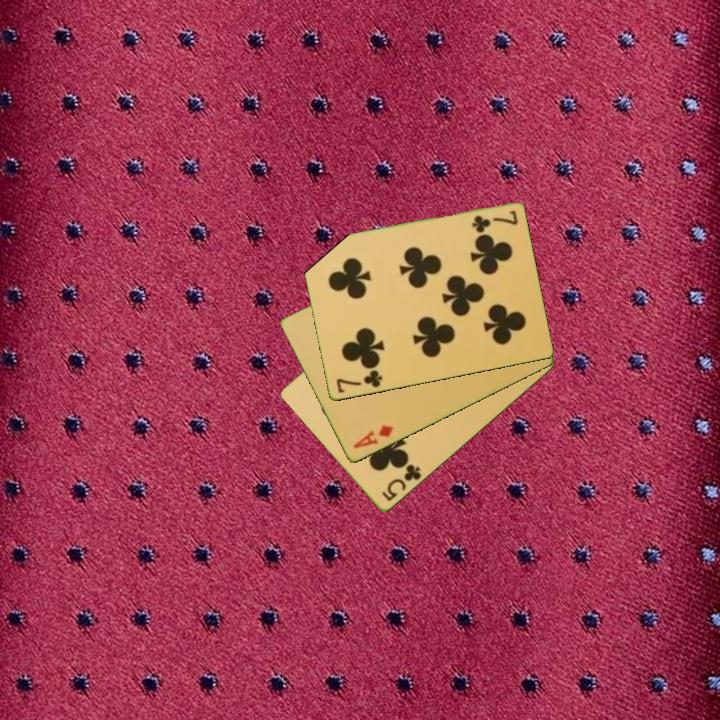5c: (378, 461, 424, 505)
7c: (332, 367, 385, 396), (468, 207, 520, 235)
Ad: (350, 422, 396, 452)
